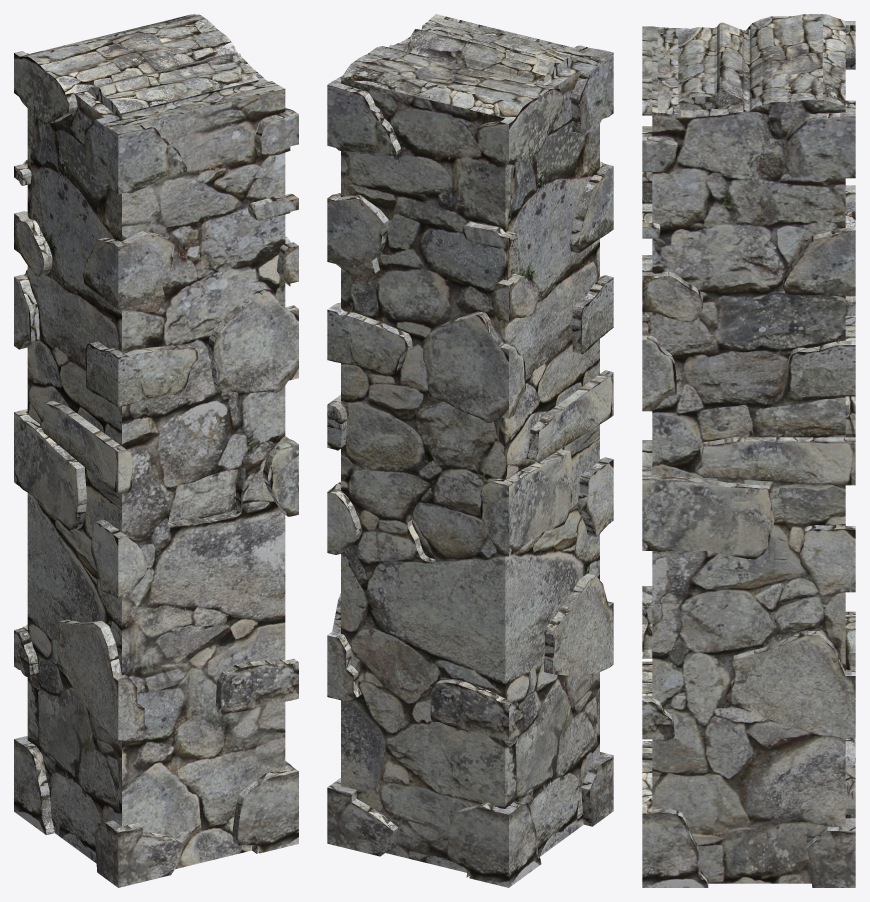
The model's file is pillar1.fbx.
3 renders of one model, left to right at view 1: azimuth 30°, elevation 25°; view 2: azimuth 150°, elevation 25°; view 3: azimuth 270°, elevation 25°, orthographic. The views are drawn at different scales.
Parts seen in each view (by area): view 1: Stone wall; view 2: Stone wall; view 3: Stone wall.
Part boxes in pixels (left/top/right/bottom): Stone wall: left=14, top=14, right=298, bottom=887; Stone wall: left=327, top=14, right=613, bottom=887; Stone wall: left=642, top=14, right=855, bottom=887.
Size of the model in its own units: 286 by 1161 by 286.
